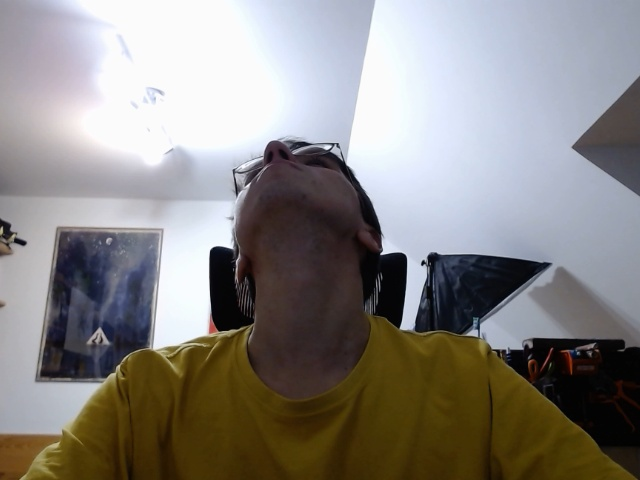NoMask: (225, 126, 389, 328)
